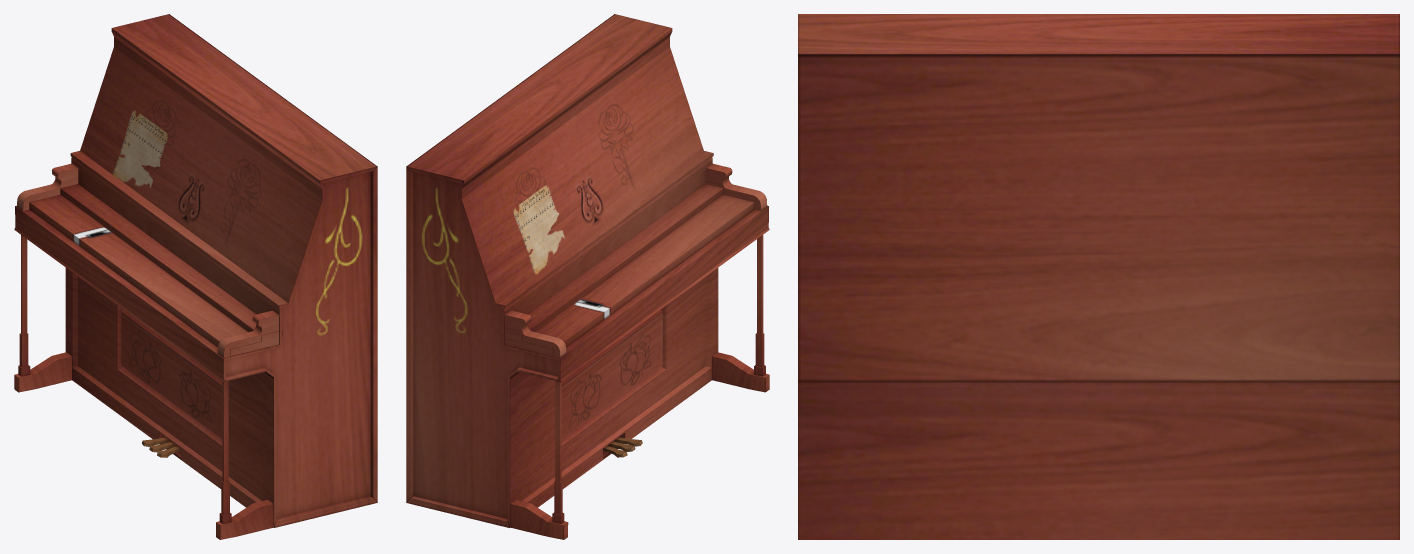
File: piano.glb
3 views of the same model, side by side, from view 1: azimuth 30°, elevation 25°; view 2: azimuth 150°, elevation 25°; view 3: azimuth 270°, elevation 25° (orthographic). The views are drawn at different scales.
Parts seen in each view (by area): view 1: pPlane2; view 2: pPlane2; view 3: pPlane2.
Part boxes in pixels (x1,y1,x2,y2): pPlane2: (14, 14, 377, 539); pPlane2: (406, 14, 769, 539); pPlane2: (798, 14, 1399, 539).
Size of the model in its own units: 125 by 257 by 289.
2 materials, 2 textured.
